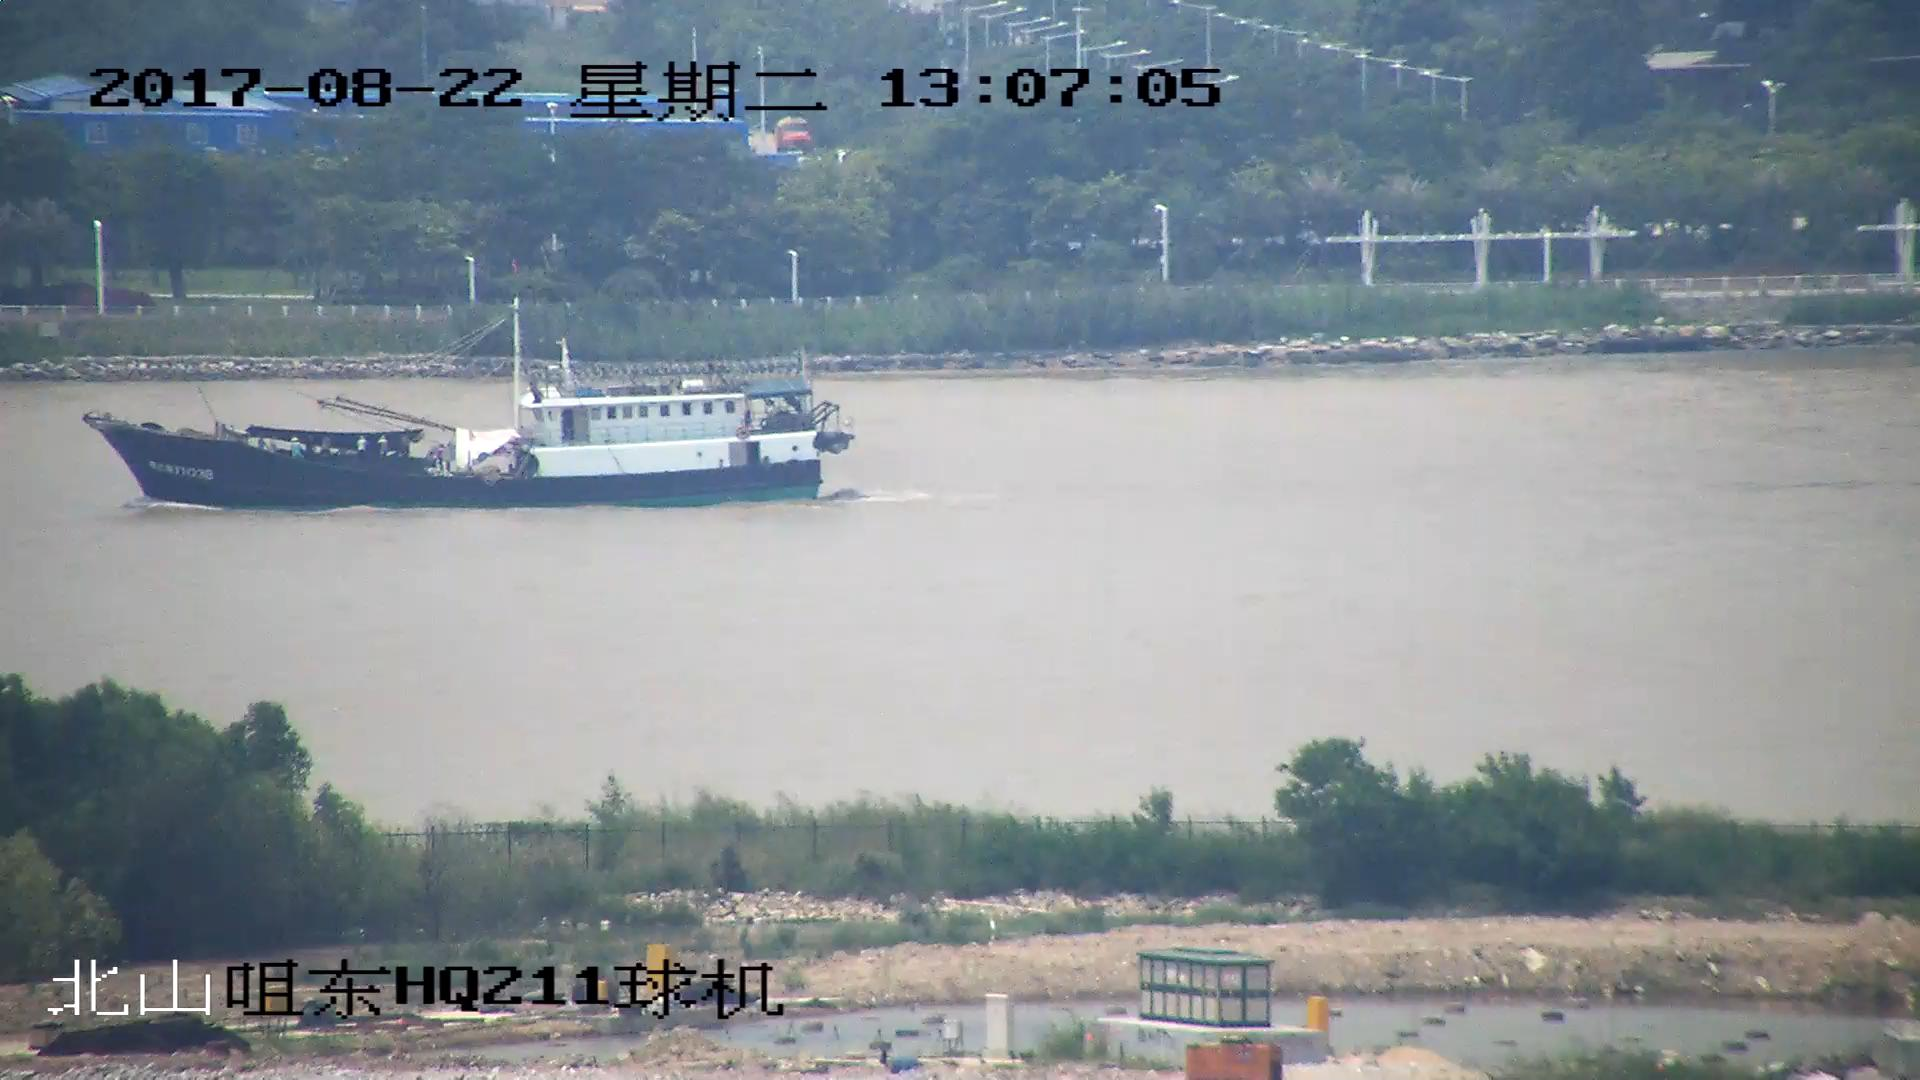fishing boat: (94, 297, 847, 509)
